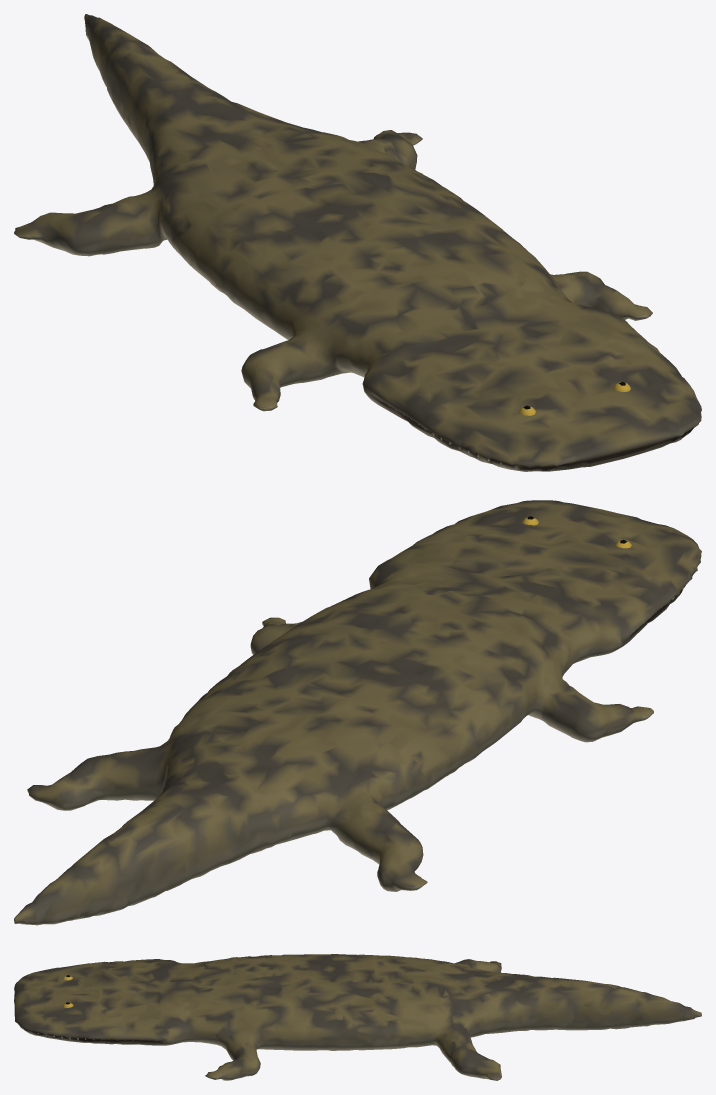
Rendered from Metoposaurus.fbx.
The picture shows the model from 3 angles, top to bottom: view 1: azimuth 30°, elevation 25°; view 2: azimuth 150°, elevation 25°; view 3: azimuth 270°, elevation 25°; orthographic projection. The views are drawn at different scales.
Visible parts, largest first — view 1: Metoposaurus; view 2: Metoposaurus; view 3: Metoposaurus.
Boxes of the visible parts, left/top/right/bottom form: Metoposaurus: left=14, top=14, right=701, bottom=471; Metoposaurus: left=14, top=500, right=701, bottom=925; Metoposaurus: left=14, top=954, right=701, bottom=1080.
Size of the model in its own units: 0.7218 by 0.1569 by 1.79.
